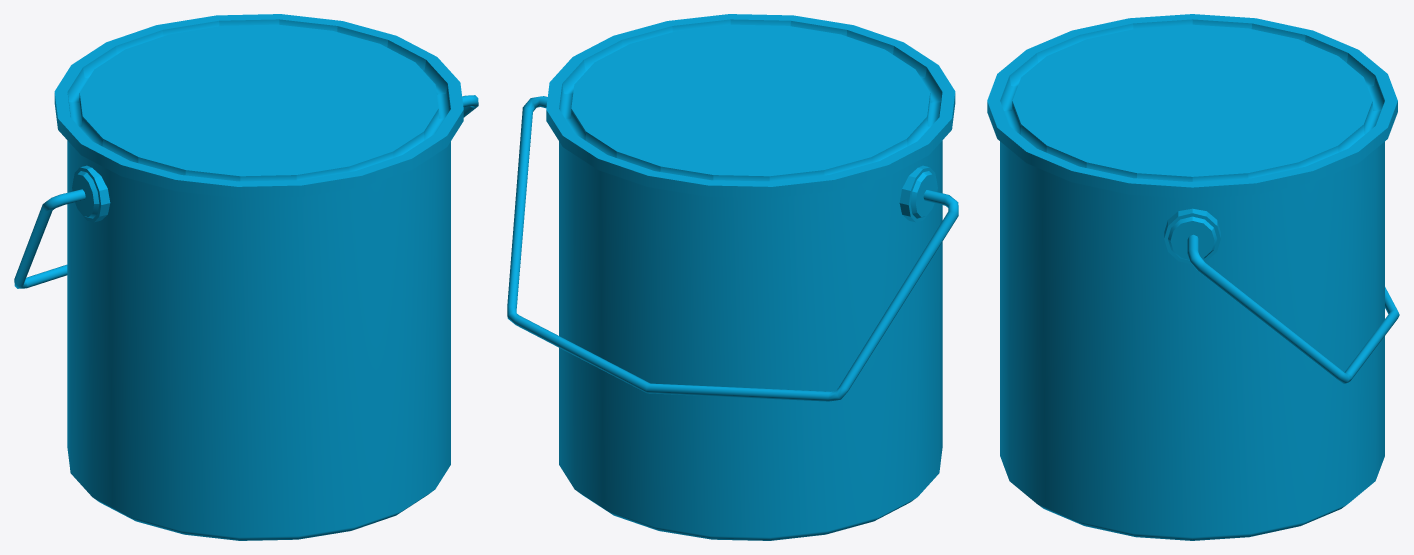
The model's file is Paint_Bucket_01_Lod0.fbx.
3 views of the same model, side by side, from view 1: azimuth 30°, elevation 25°; view 2: azimuth 150°, elevation 25°; view 3: azimuth 270°, elevation 25° (orthographic).
Visible parts, largest first — view 1: Paint_Bucket_01_Lod0; view 2: Paint_Bucket_01_Lod0; view 3: Paint_Bucket_01_Lod0.
Part boxes in pixels (bbox=[...]): Paint_Bucket_01_Lod0: bbox=[14, 14, 478, 540]; Paint_Bucket_01_Lod0: bbox=[507, 14, 958, 540]; Paint_Bucket_01_Lod0: bbox=[987, 14, 1399, 540].
Size of the model in its own units: 30.78 by 24.5 by 25.28.
